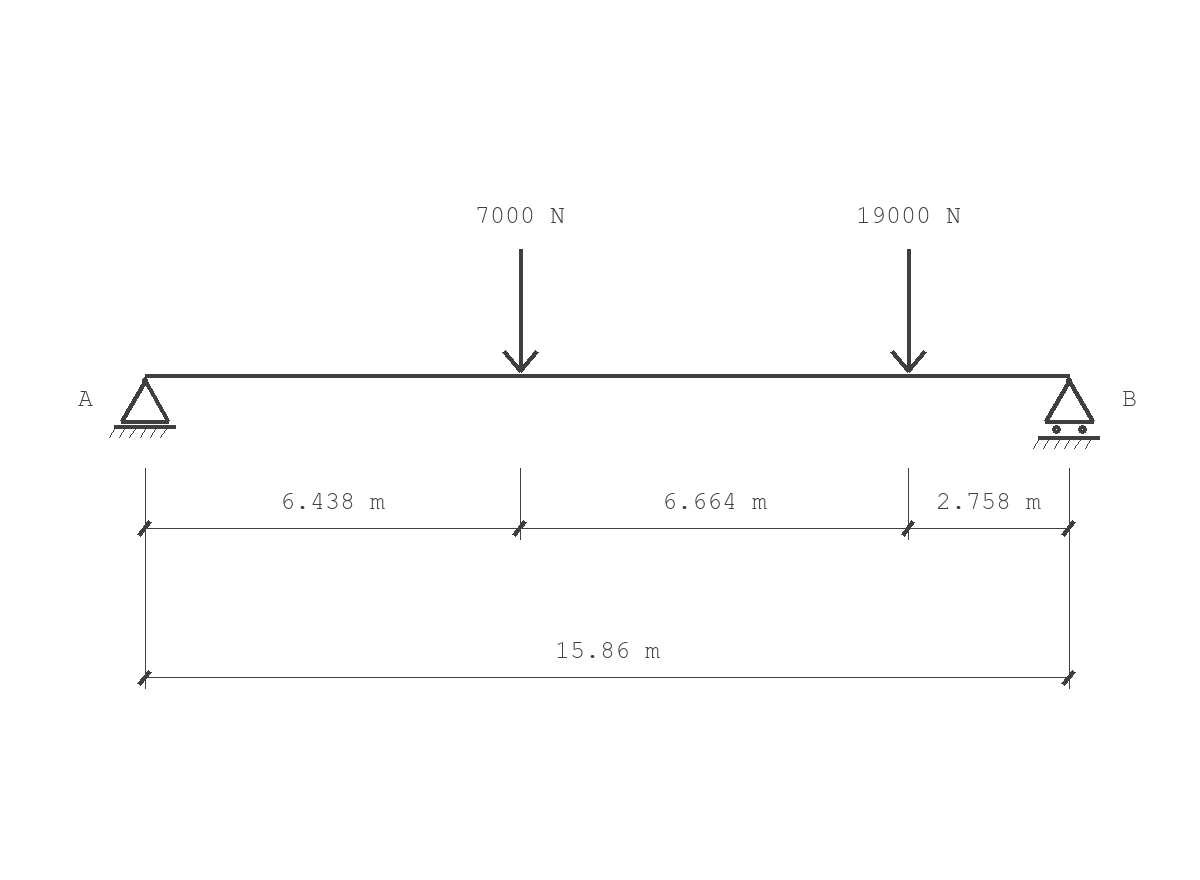pin_support: (109, 377, 176, 438)
point_load: (502, 249, 539, 373), (890, 249, 927, 373)
roller_support: (1033, 377, 1100, 449)
